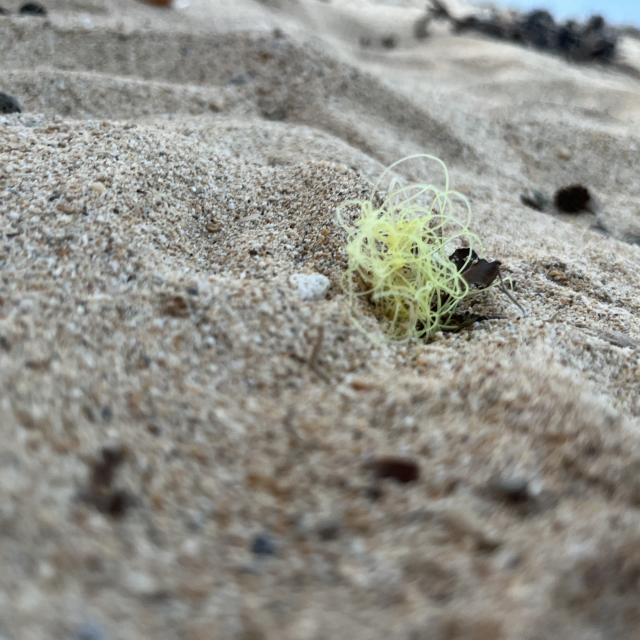trash: (314, 139, 507, 348)
